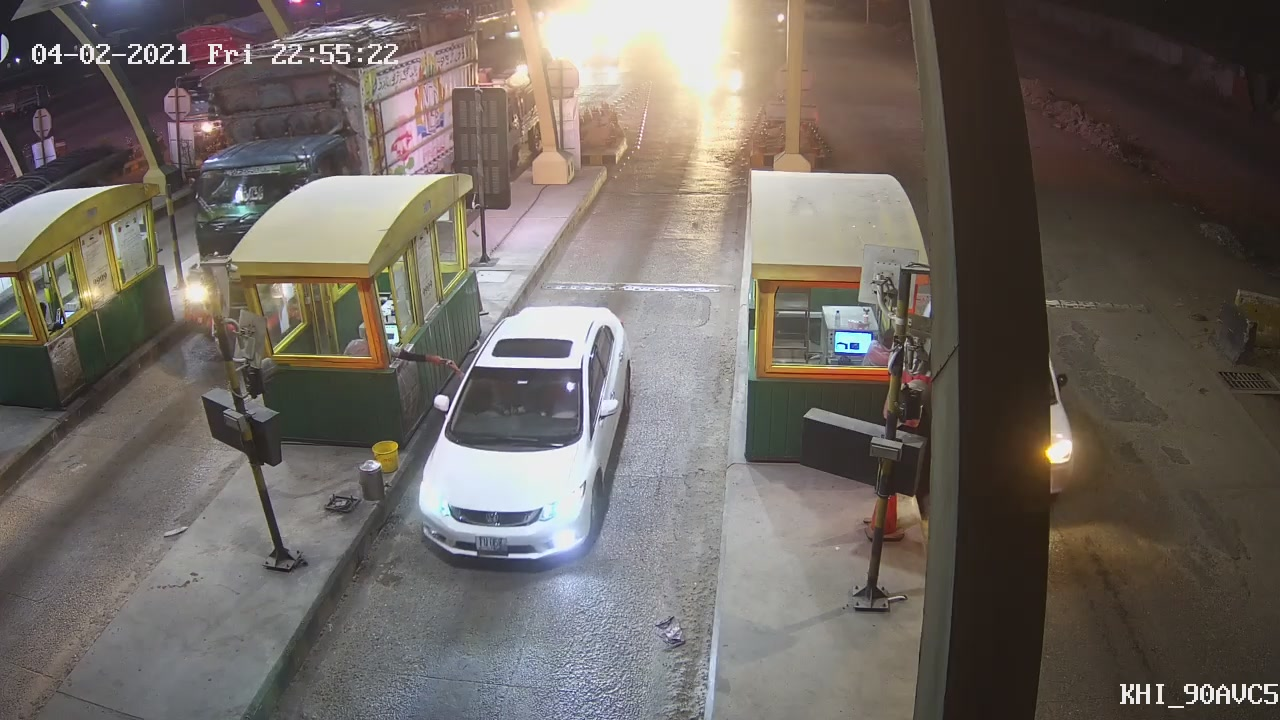F1: (415, 298, 633, 572)
